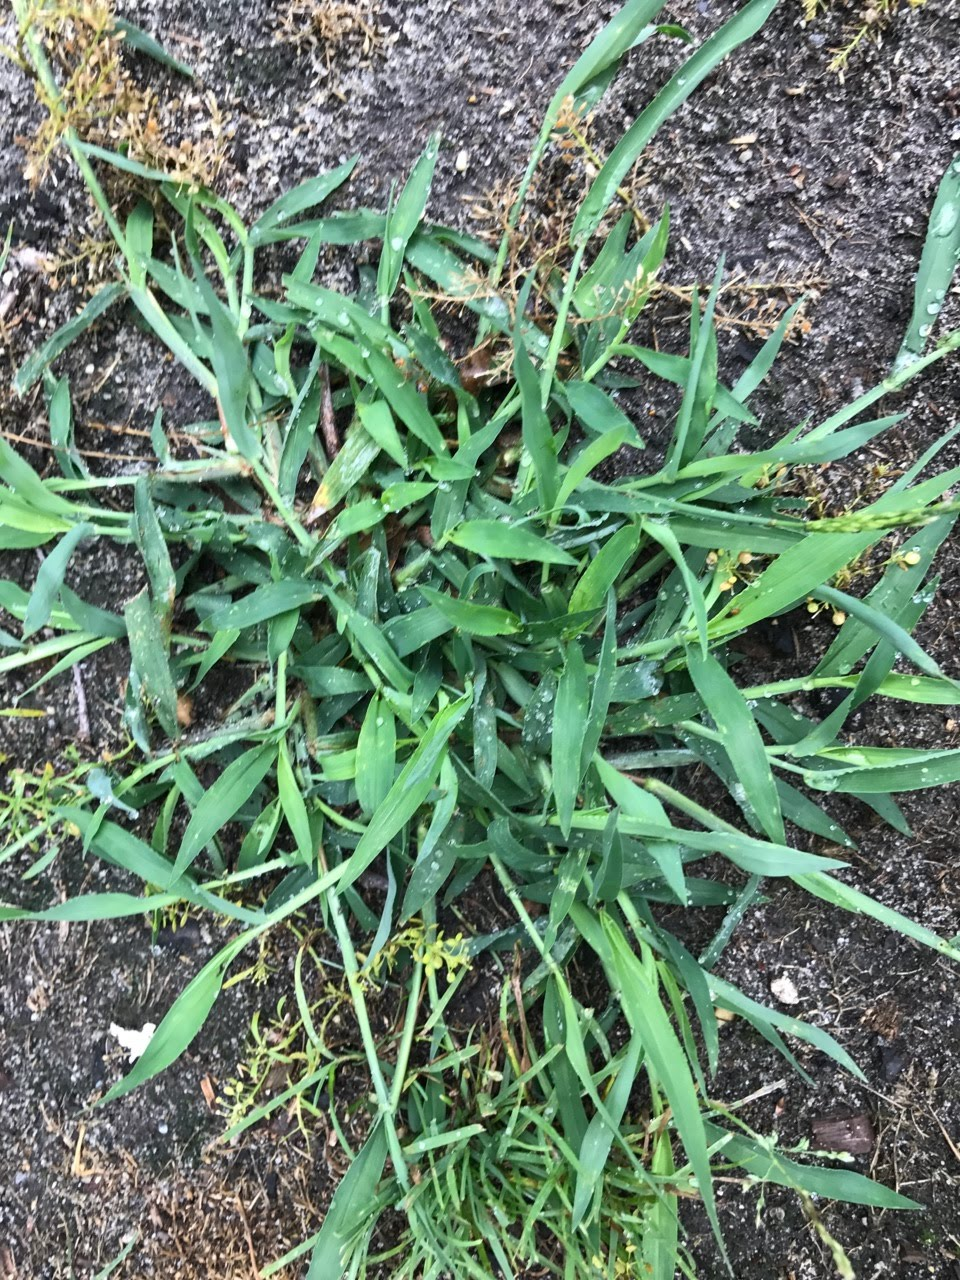crabgrass: (61, 181, 921, 1007)
